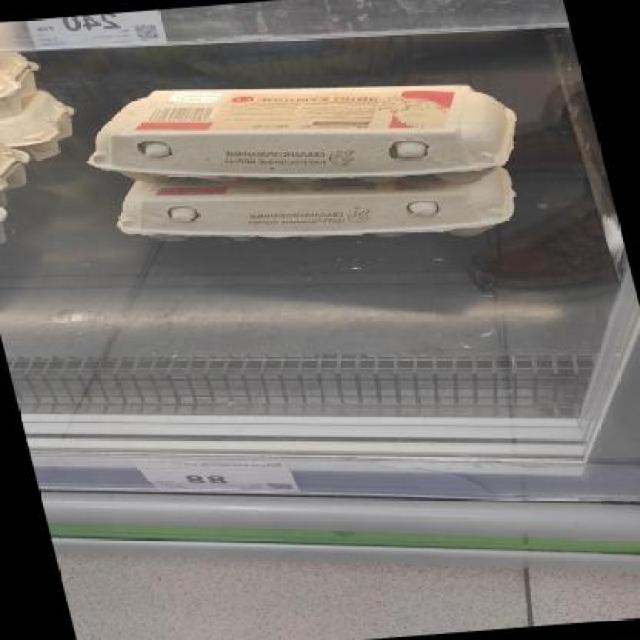Egg: (52, 55, 560, 214), (0, 47, 49, 118), (0, 134, 42, 203)
